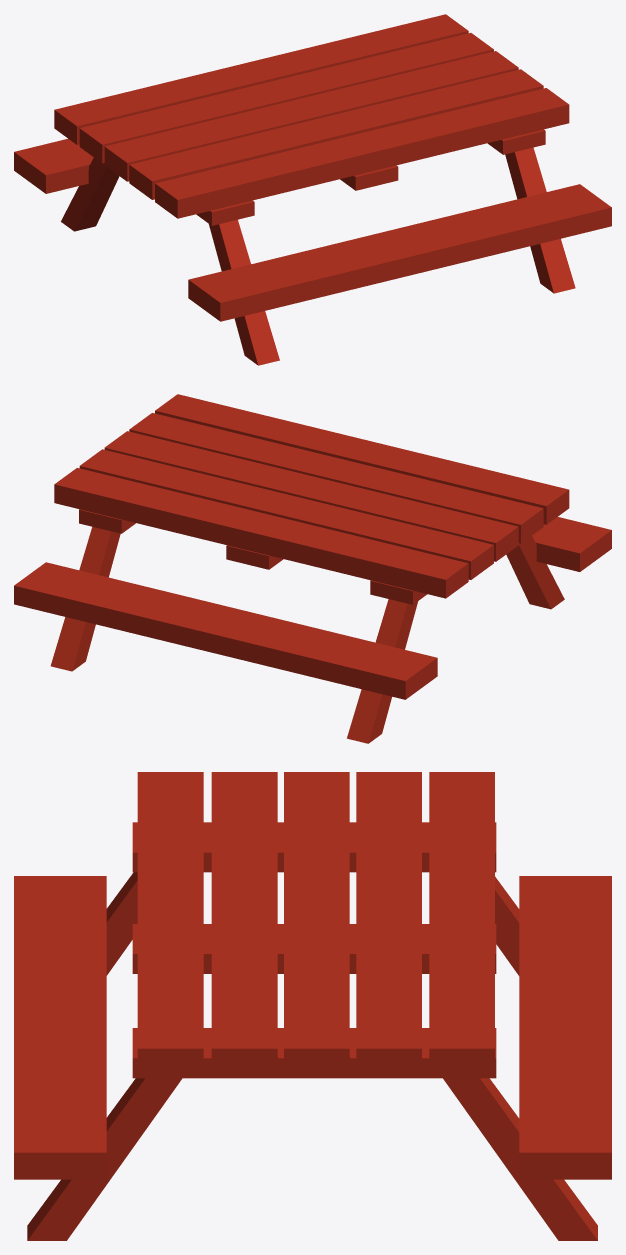
Rendered from PicknickCouch.fbx.
3 views of the same model, one above another, from view 1: azimuth 30°, elevation 25°; view 2: azimuth 150°, elevation 25°; view 3: azimuth 270°, elevation 25° (orthographic). The views are drawn at different scales.
Visible parts, largest first — view 1: Cube.012; view 2: Cube.012; view 3: Cube.012.
Part boxes in pixels (box(x1,y1,x2,y2)): Cube.012: box(14, 14, 611, 365); Cube.012: box(14, 394, 611, 743); Cube.012: box(14, 772, 611, 1240).
Bounding box in the file's own units: 163 × 58.83 × 149.
